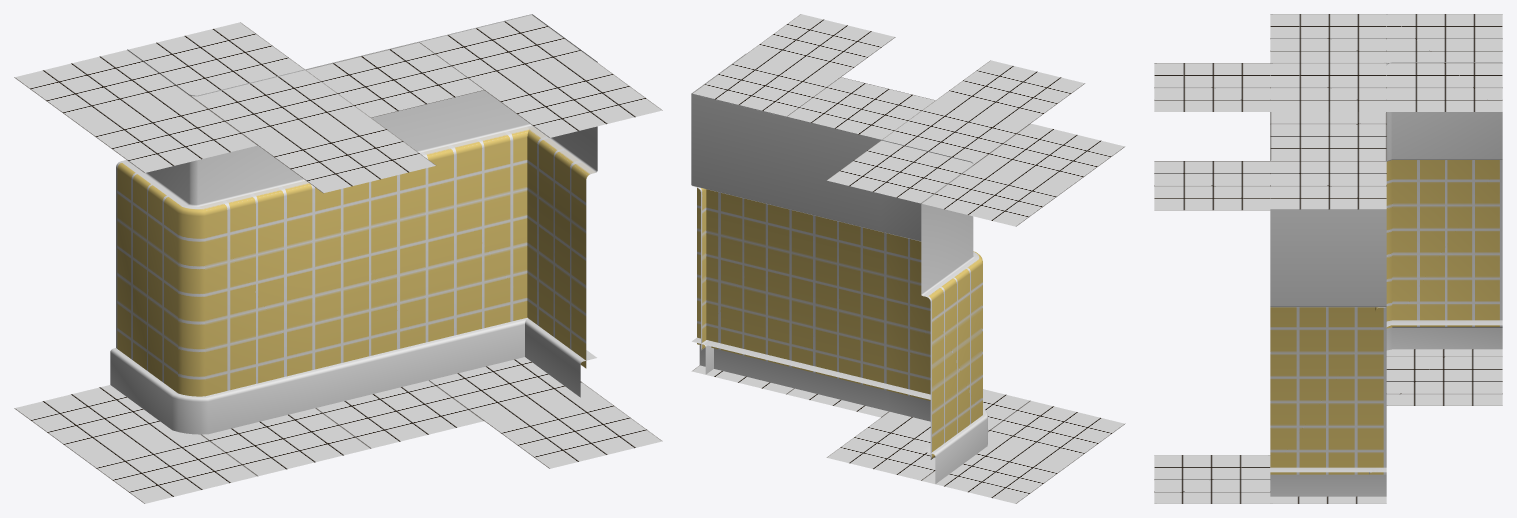
Rendered from ModularBathroomTiles.glb.
3 renders of one model, left to right at view 1: azimuth 30°, elevation 25°; view 2: azimuth 150°, elevation 25°; view 3: azimuth 270°, elevation 25°, orthographic. The views are drawn at different scales.
Parts seen in each view (by area): view 1: wall_urinal_outCorner_col, wall_urinal_inCorner_col, wall_urinal_part_col, floor_col, roof_col; view 2: wall_urinal_outCorner_col, wall_urinal_inCorner_col, wall_urinal_part_col, roof_col, floor_col; view 3: wall_urinal_outCorner_col, wall_urinal_inCorner_col, floor_col, roof_col, wall_urinal_part_col.
Part boxes in pixels (x1,y1,x2,y2): wall_urinal_outCorner_col: (14,22,370,503); wall_urinal_inCorner_col: (419,14,597,420); wall_urinal_part_col: (306,41,483,448); floor_col: (484,62,662,468); roof_col: (258,118,435,193); wall_urinal_outCorner_col: (826,100,1125,503); wall_urinal_inCorner_col: (691,53,840,394); wall_urinal_part_col: (786,77,935,417); roof_col: (936,60,1084,123); floor_col: (747,14,895,76); wall_urinal_outCorner_col: (1270,14,1502,405); wall_urinal_inCorner_col: (1270,161,1386,503); floor_col: (1154,161,1270,503); roof_col: (1154,63,1270,111); wall_urinal_part_col: (1270,112,1386,160).
Size of the model in its own units: 4 by 2.8 by 3.
2 materials, 2 textured.
